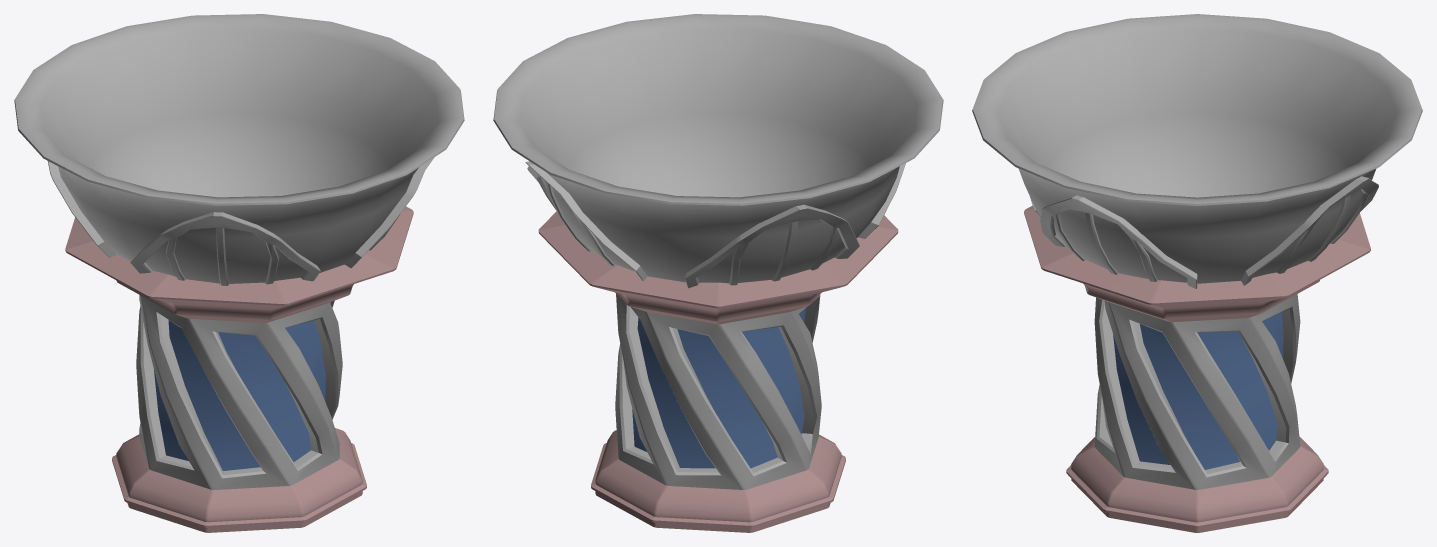
The model's file is SM_BallHolder.fbx.
3 renders of one model, left to right at view 1: azimuth 30°, elevation 25°; view 2: azimuth 150°, elevation 25°; view 3: azimuth 270°, elevation 25°, orthographic.
Parts seen in each view (by area): view 1: SM_BallHolder; view 2: SM_BallHolder; view 3: SM_BallHolder.
Part boxes in pixels (x1,y1,x2,y2): SM_BallHolder: (14,14,464,532); SM_BallHolder: (493,14,943,532); SM_BallHolder: (972,14,1422,532).
Size of the model in its own units: 177 by 161 by 177.
